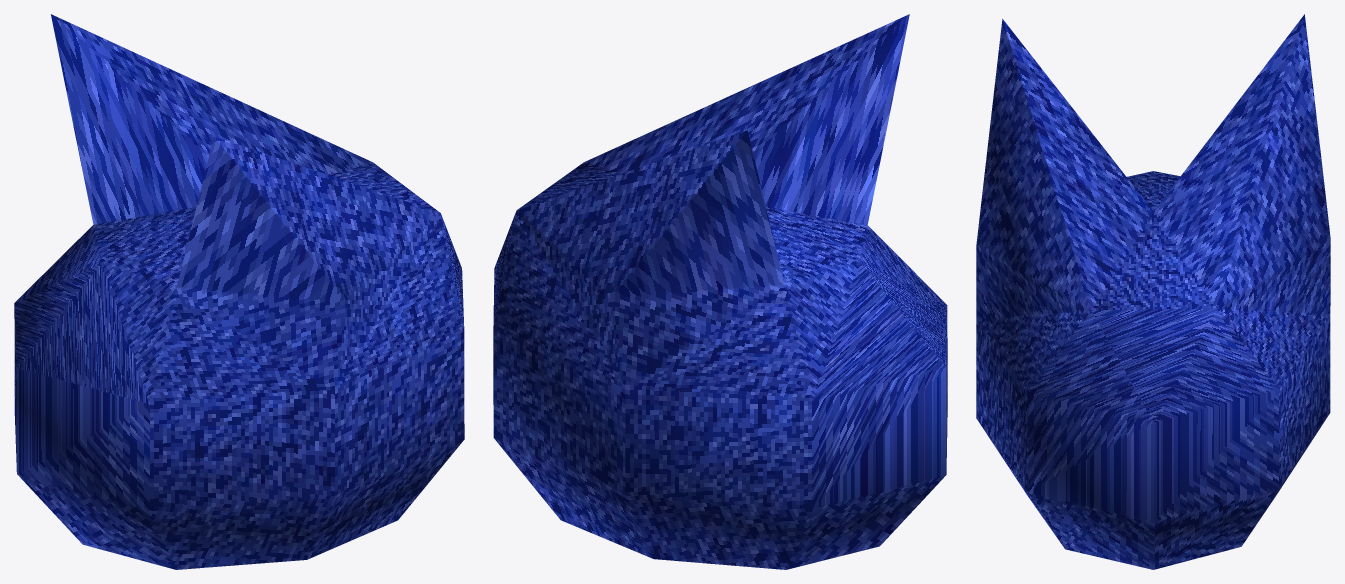
The model's file is Body.obj.
3 views of the same model, side by side, from view 1: azimuth 30°, elevation 25°; view 2: azimuth 150°, elevation 25°; view 3: azimuth 270°, elevation 25° (orthographic). The views are drawn at different scales.
Bounding box in the file's own units: 3.44 × 3.71 × 2.54.
Materials: 2 (2 with a texture image).
